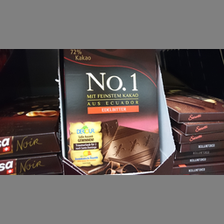chocolate: (66, 49, 160, 173)
